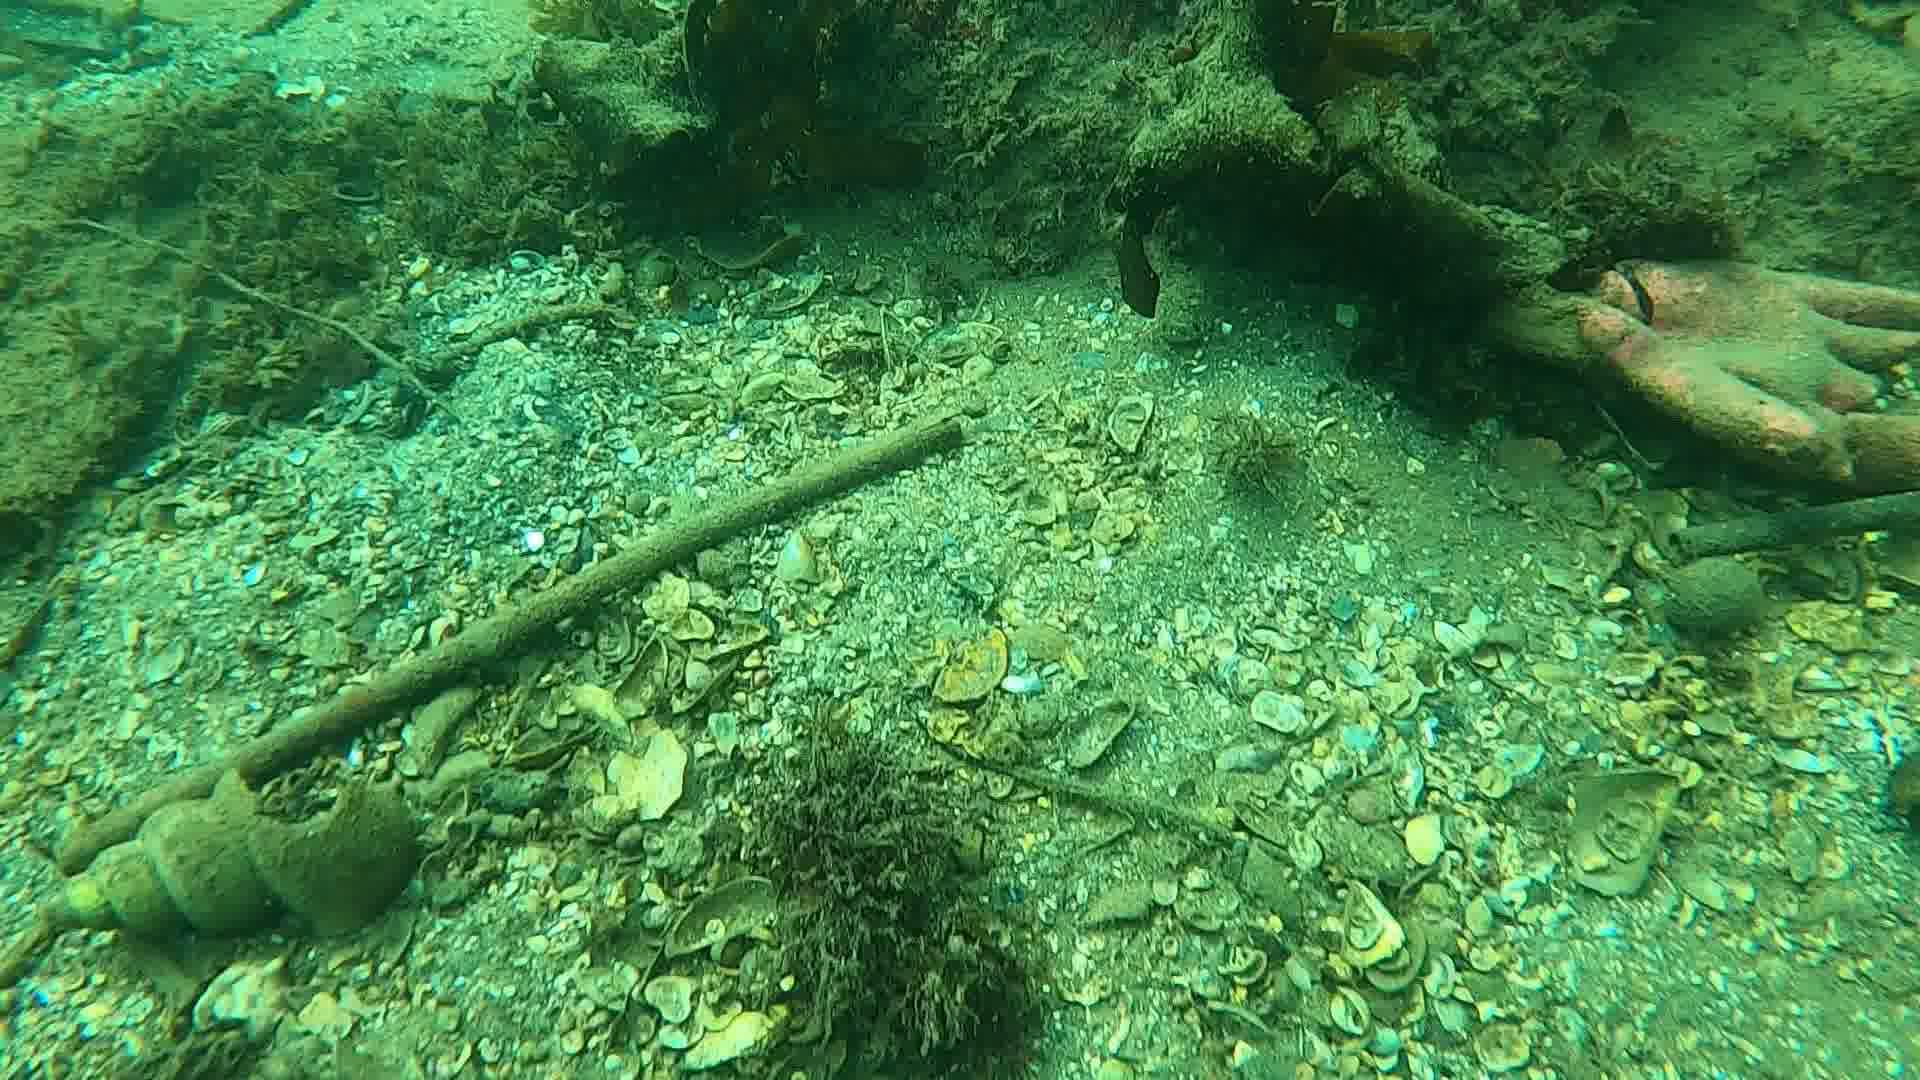wood: (47, 411, 963, 874)
